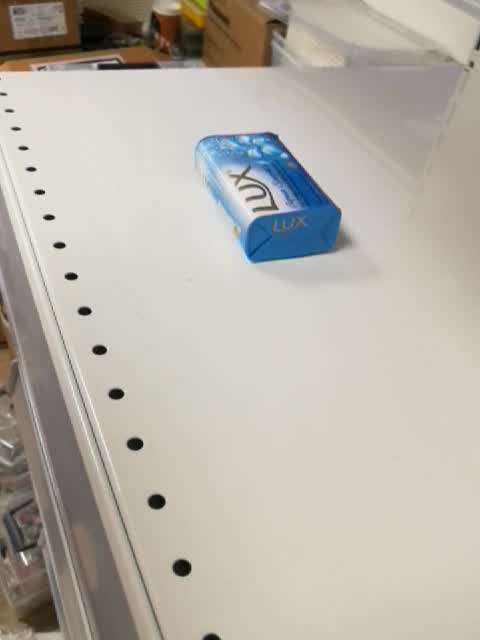soap: (192, 131, 343, 265)
